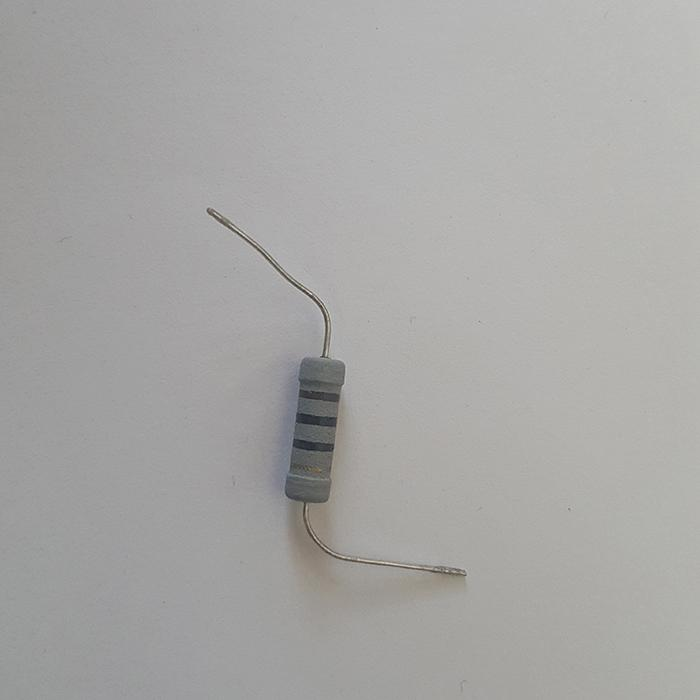resistor: (283, 355, 347, 504)
